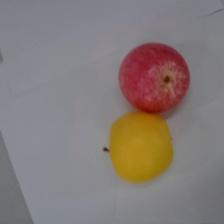red: (118, 42, 190, 113)
yellow: (104, 111, 175, 183)
